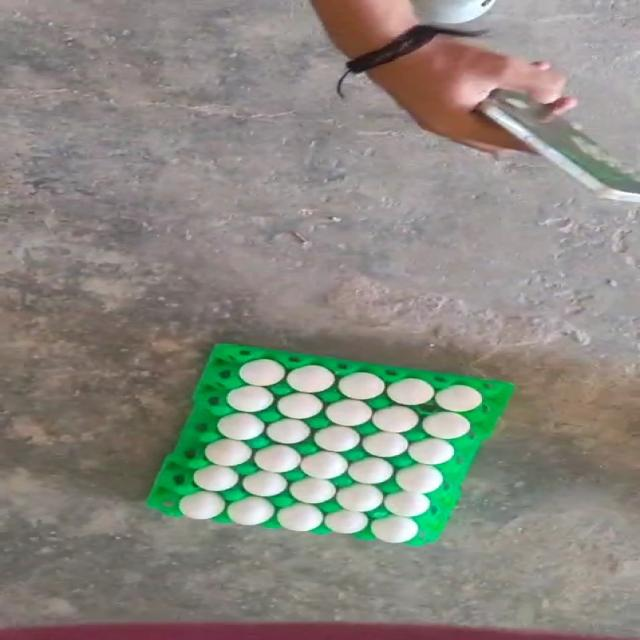egg_tray: (151, 346, 511, 544), (149, 406, 478, 544), (194, 344, 513, 437), (305, 412, 327, 425), (257, 402, 277, 412), (416, 438, 435, 442), (303, 407, 312, 412), (392, 434, 403, 436), (423, 450, 427, 453)
